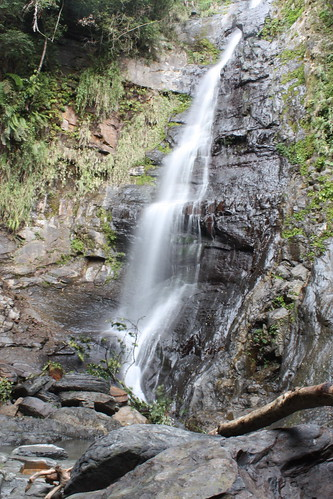wufengciWaterfall: (96, 9, 266, 396)
